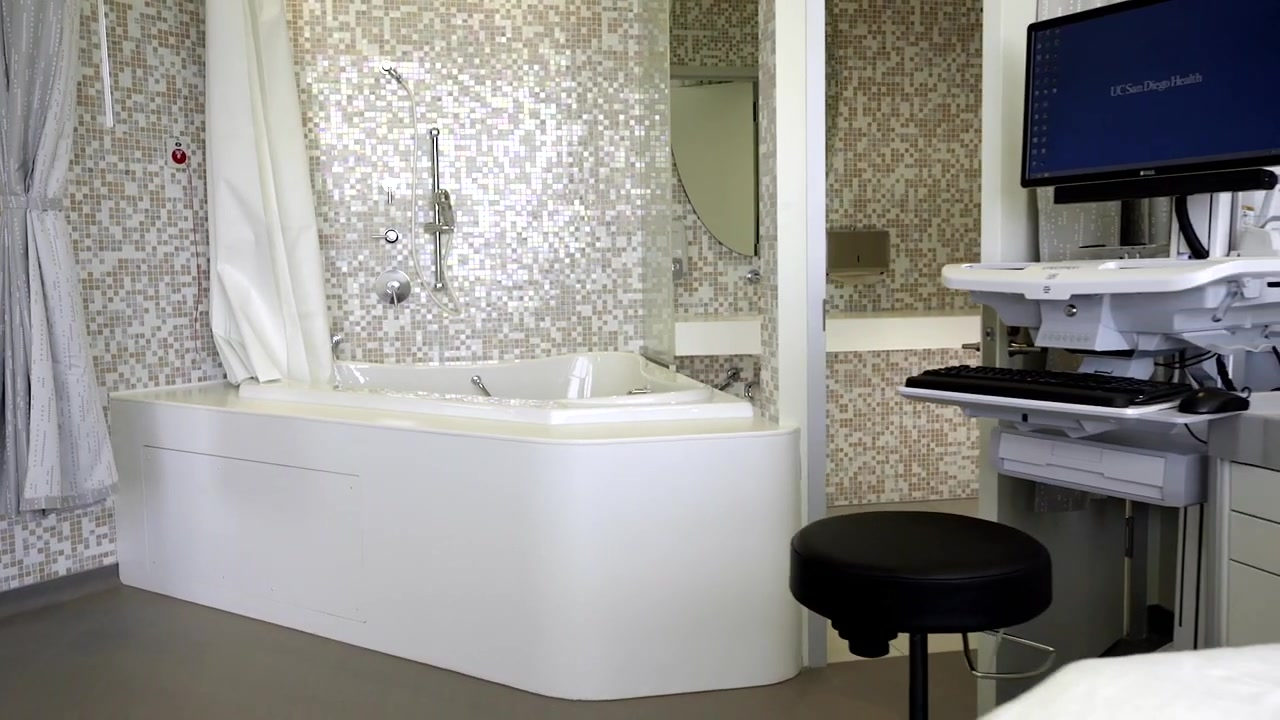bedside_monitor: (1021, 4, 1280, 201)
chair: (788, 507, 1053, 720)
counter: (670, 313, 987, 357)
countertop: (672, 307, 988, 321)
curtain: (1, 1, 120, 518), (196, 1, 340, 384)
dispenser: (819, 222, 899, 291)
faucet: (383, 267, 405, 313), (381, 175, 399, 206), (371, 227, 399, 245)
keyboard: (896, 363, 1194, 414)
mouse: (1176, 386, 1250, 414)
restroom_assist_bar: (433, 128, 444, 293), (467, 373, 495, 394)
